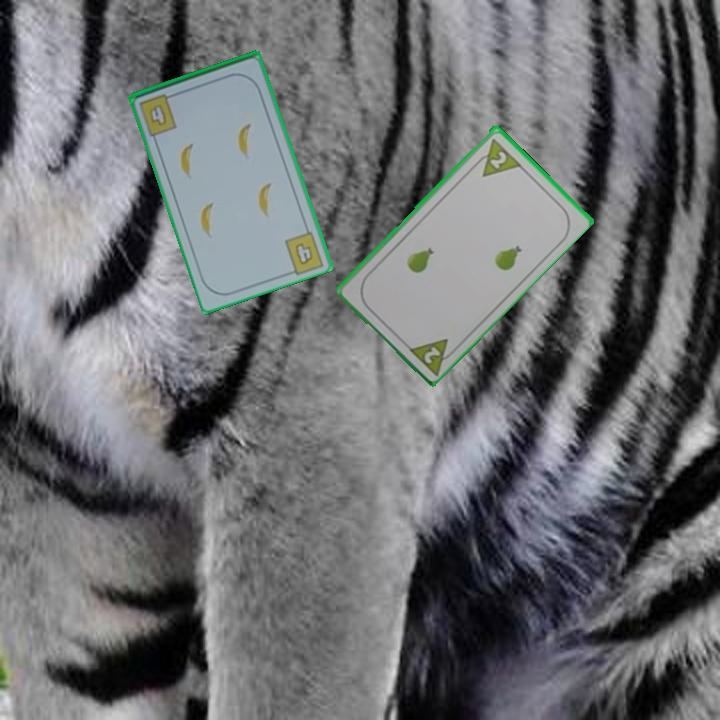2p: (470, 134, 523, 180), (420, 342, 444, 366)
4b: (136, 90, 180, 139), (292, 239, 316, 268)
